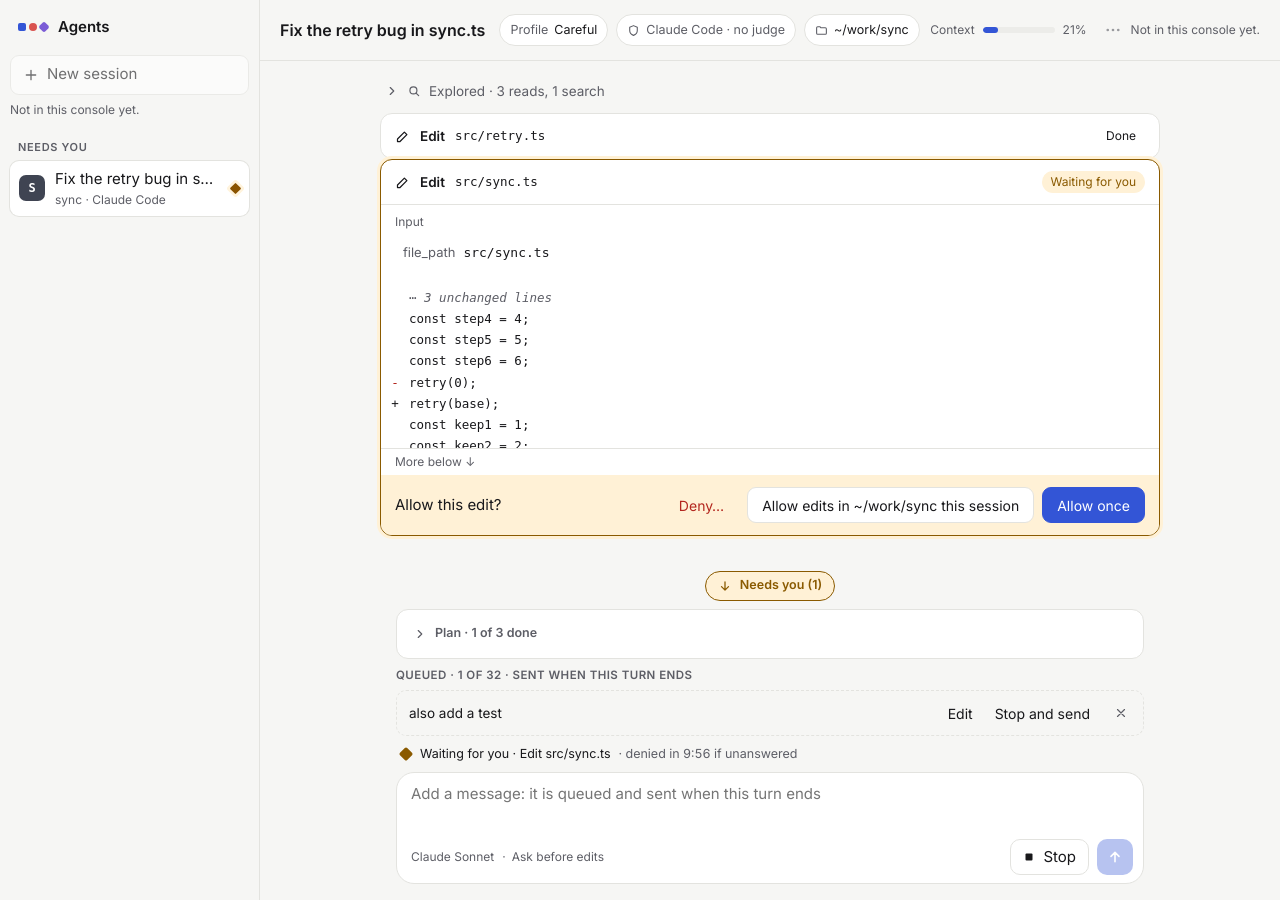
Test case: S23-1 answered, waiting › ac4_a_refusal_on_the_ask_field_keeps_answered_waiting
(page scrolled)
Expected: the button "Needs you (1)" is shown, [705,571,835,601]
Expected: the text "also add a test" is shown, [409,705,502,721]
Click the button "Allow once": [1094, 505] box [1042,487,1145,523]
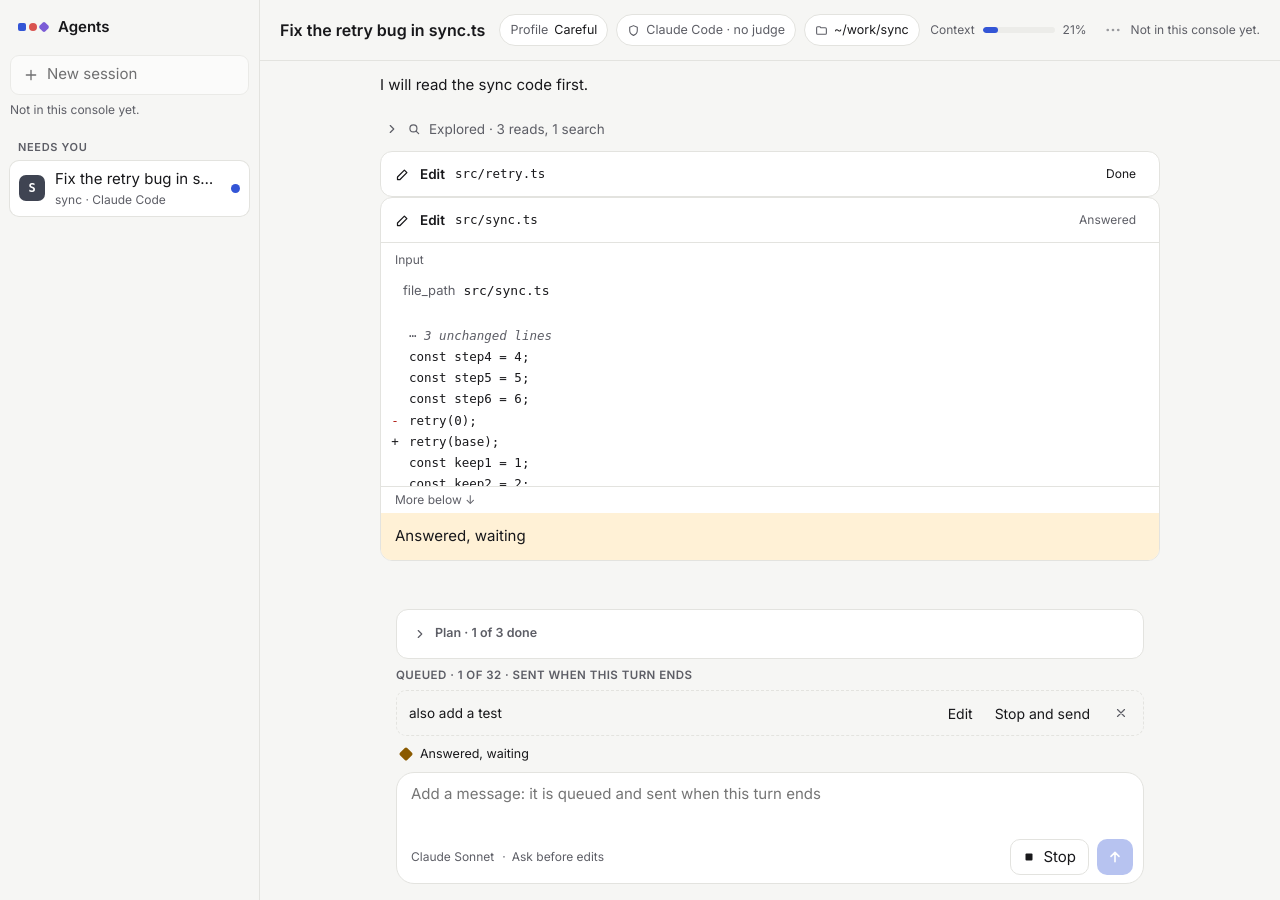
Result: the message "Answered, waiting" below "const keep3 = 3;" is shown at [395,526,526,545]
Result: the button "Needs you (1)" is gone
